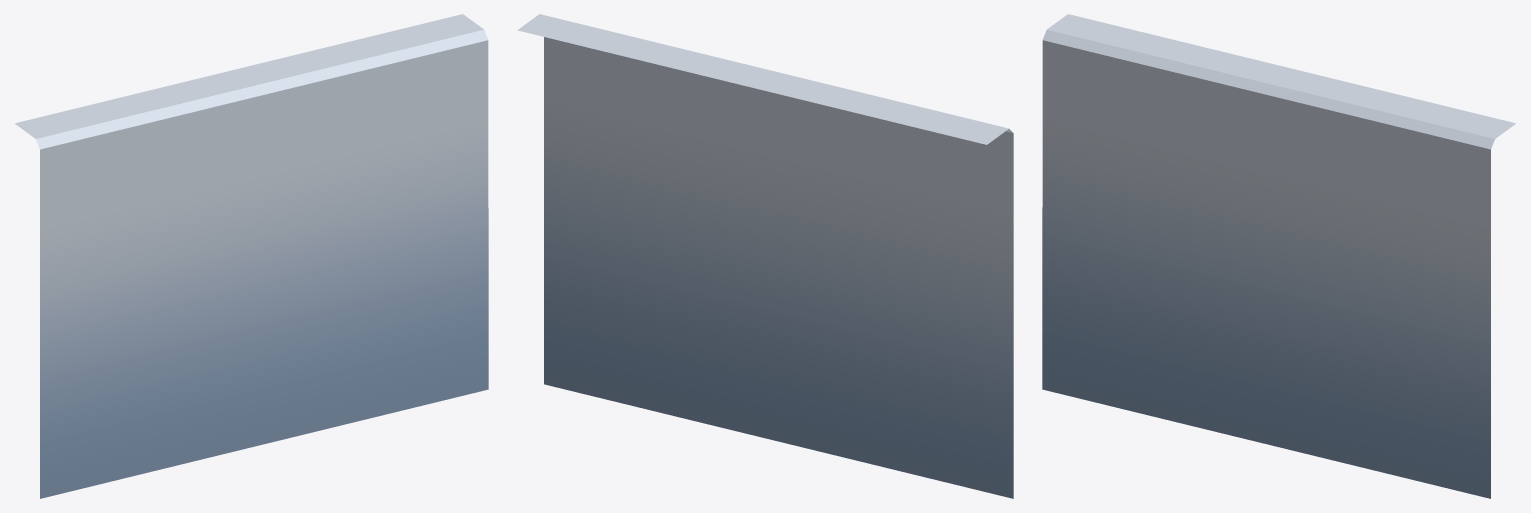
File: Wall Btm 02.fbx
3 views of the same model, side by side, from view 1: azimuth 30°, elevation 25°; view 2: azimuth 150°, elevation 25°; view 3: azimuth 330°, elevation 25° (orthographic). The views are drawn at different scales.
Visible parts, largest first — view 1: Wall Btm 02.001; view 2: Wall Btm 02.001; view 3: Wall Btm 02.001.
Boxes of the visible parts, x1,y1,x2,y2 form: Wall Btm 02.001: [15, 14, 488, 498]; Wall Btm 02.001: [517, 14, 1013, 498]; Wall Btm 02.001: [1042, 14, 1515, 498].
Size of the model in its own units: 400 by 304 by 39.63.
